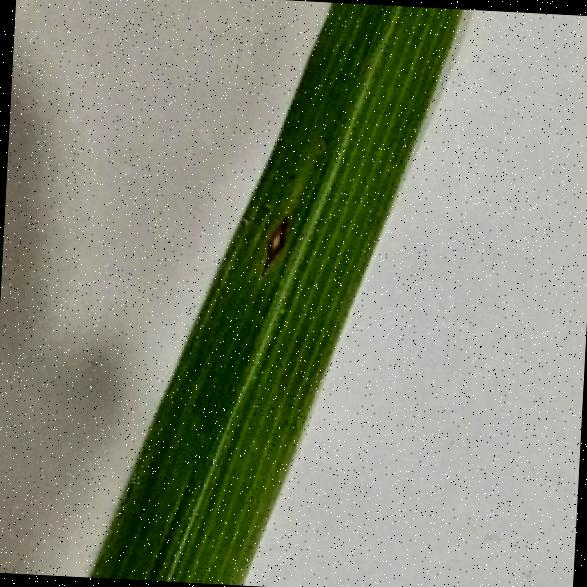Leaf_smut: (255, 208, 292, 286)
